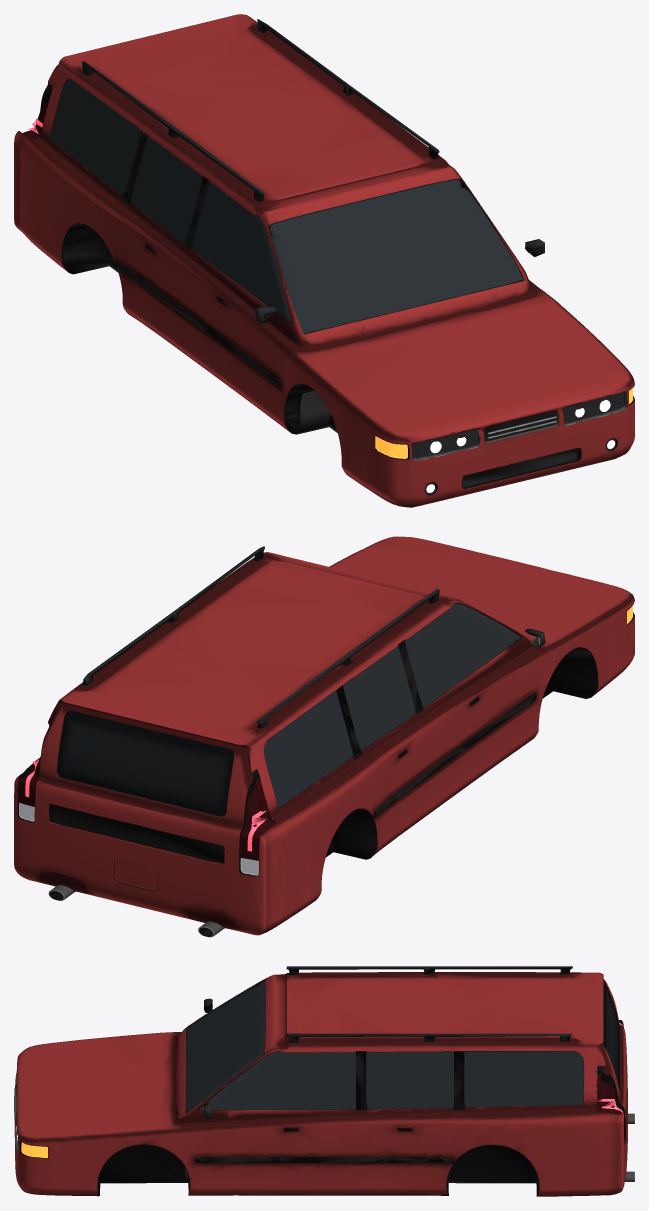
Rendered from sleeper.m.glb.
The picture shows the model from 3 angles, top to bottom: view 1: azimuth 30°, elevation 25°; view 2: azimuth 150°, elevation 25°; view 3: azimuth 270°, elevation 25°; orthographic projection. The views are drawn at different scales.
Visible parts, largest first — view 1: paint_lodm, window_lodm, trim_lodm, grille_lodm, head_lodm, chrome_lodm, interior_lodm; view 2: paint_lodm, window_lodm, trim_lodm, glass_lodm, tail_lodm; view 3: paint_lodm, window_lodm, trim_lodm, glass_lodm, tail_lodm, chrome_lodm.
Boxes of the visible parts, <box> form: paint_lodm: <box>14,14,634,506</box>; window_lodm: <box>50,79,522,333</box>; trim_lodm: <box>36,19,634,507</box>; grille_lodm: <box>462,411,578,487</box>; head_lodm: <box>412,391,624,494</box>; chrome_lodm: <box>412,391,627,460</box>; interior_lodm: <box>70,79,330,426</box>; paint_lodm: <box>14,536,634,935</box>; window_lodm: <box>264,603,520,807</box>; trim_lodm: <box>17,546,634,929</box>; glass_lodm: <box>56,711,233,816</box>; tail_lodm: <box>19,756,275,860</box>; paint_lodm: <box>14,972,628,1196</box>; window_lodm: <box>186,980,583,1112</box>; trim_lodm: <box>15,966,627,1196</box>; glass_lodm: <box>603,982,619,1091</box>; tail_lodm: <box>595,1024,622,1115</box>; chrome_lodm: <box>14,1001,634,1181</box>.
Size of what is drawn, in the model's own units: 2.03 by 1.3 by 4.8.
